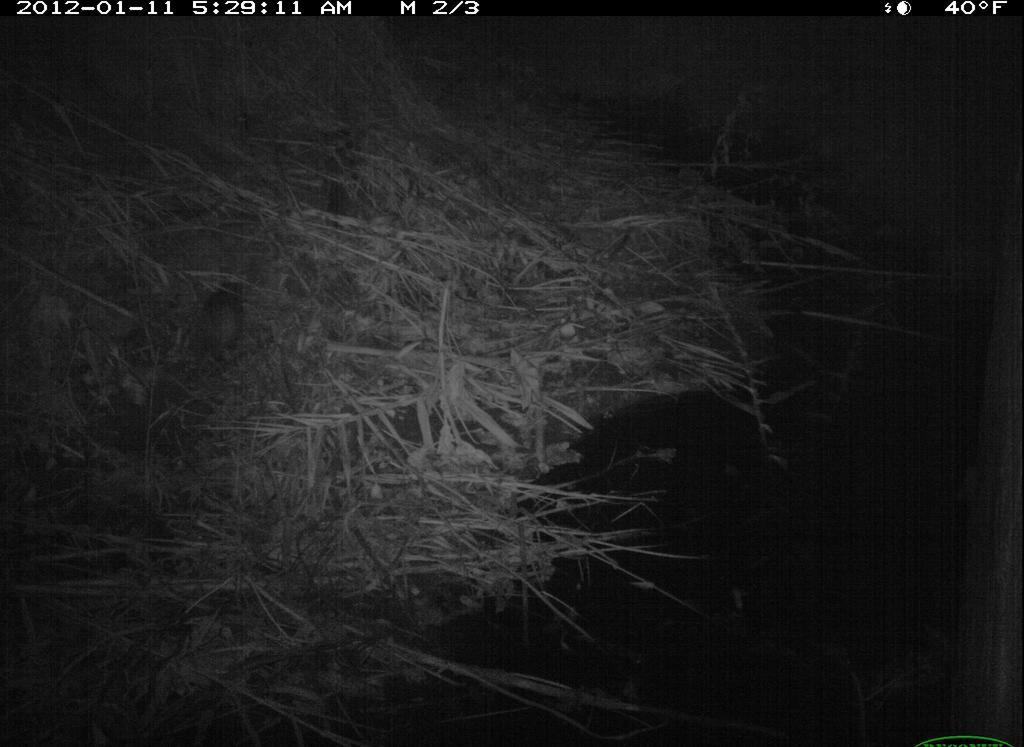opossum: (177, 258, 274, 387)
